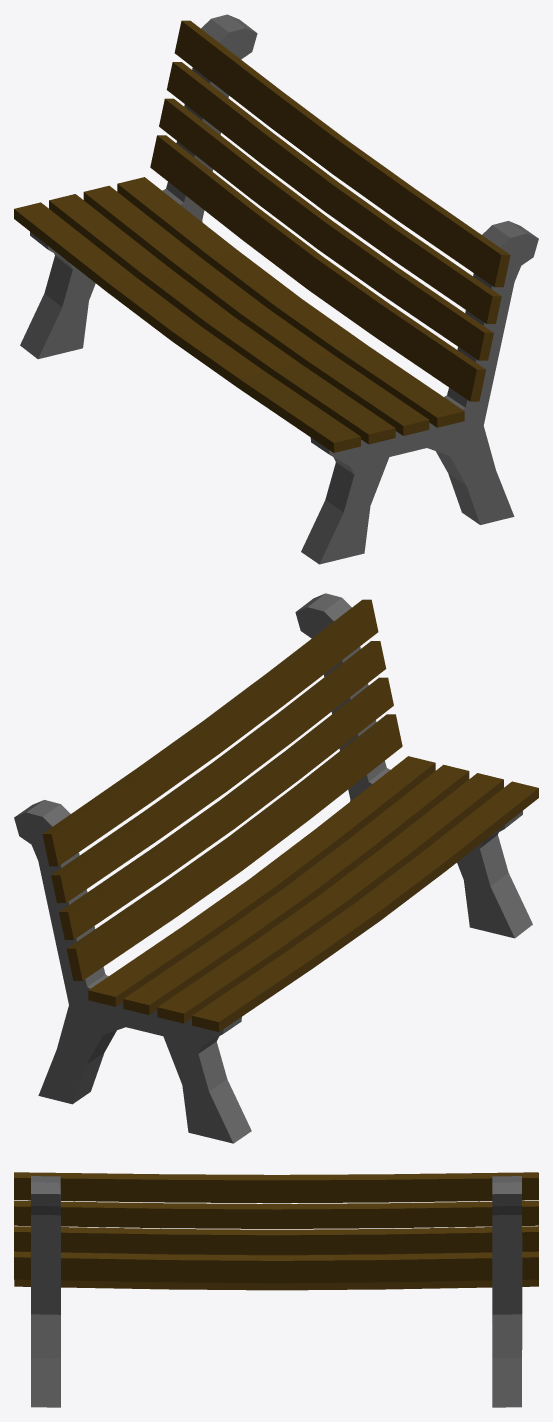
File: Beanch.fbx
3 views of the same model, one above another, from view 1: azimuth 30°, elevation 25°; view 2: azimuth 150°, elevation 25°; view 3: azimuth 270°, elevation 25° (orthographic). The views are drawn at different scales.
Parts seen in each view (by area): view 1: Cube.022; view 2: Cube.022; view 3: Cube.022.
Part boxes in pixels (<box>): Cube.022: <box>14,14,538,564</box>; Cube.022: <box>14,593,538,1143</box>; Cube.022: <box>14,1172,538,1407</box>.
Size of the model in its own units: 96.5 by 118 by 243.
